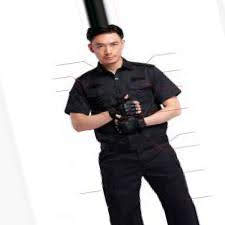uniform: (70, 62, 200, 211)
